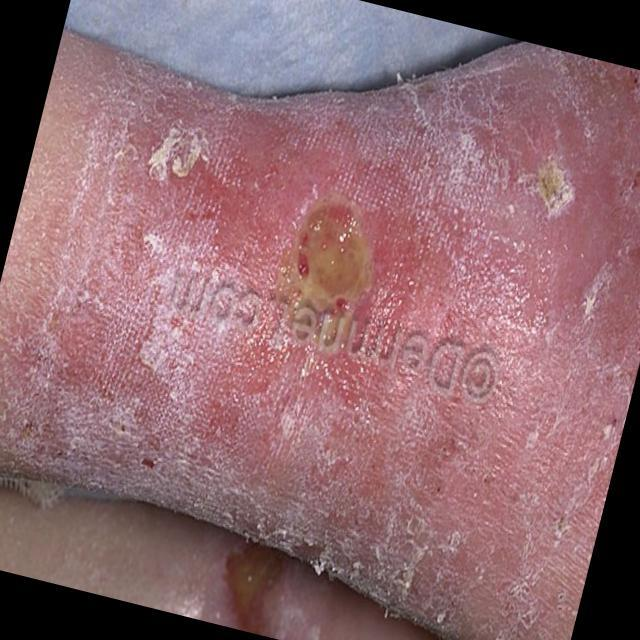Eczema: (38, 84, 578, 608)
